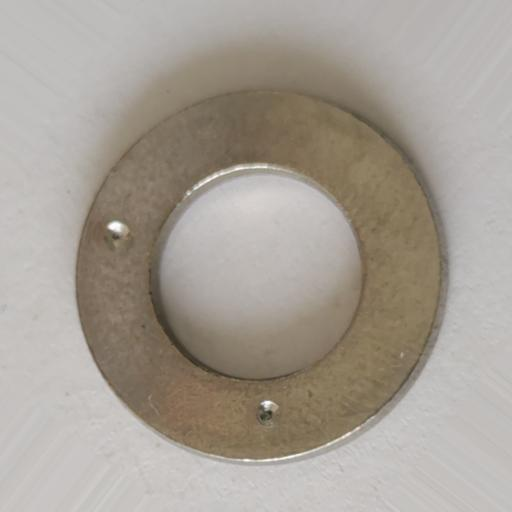circular_cavity: (104, 220, 132, 250), (256, 399, 280, 426)
